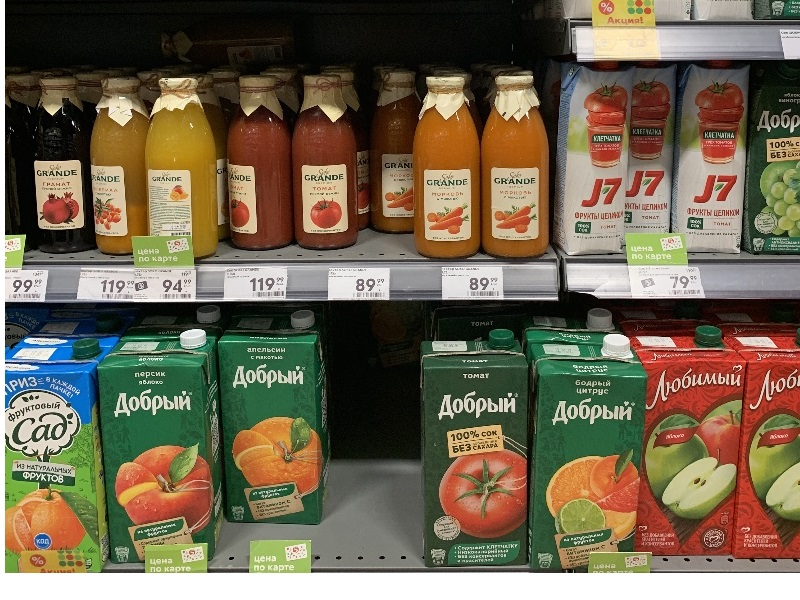juice: (208, 308, 346, 546), (525, 327, 646, 574), (411, 328, 535, 569), (100, 332, 223, 570), (632, 326, 748, 563), (7, 332, 115, 570)
